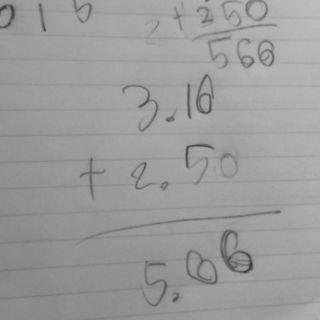.: (159, 178, 171, 194), (164, 113, 177, 124)
0: (219, 146, 239, 179)
1: (33, 1, 49, 35), (184, 82, 193, 119)
2: (130, 160, 157, 192)
3: (119, 79, 160, 133)
5: (136, 258, 169, 308), (182, 141, 215, 189), (204, 34, 233, 70)
6: (195, 72, 215, 116), (234, 36, 256, 69)
